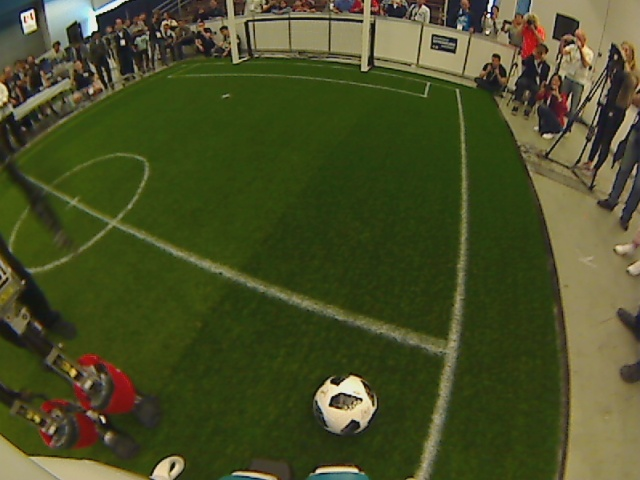ball: (311, 371, 379, 439)
